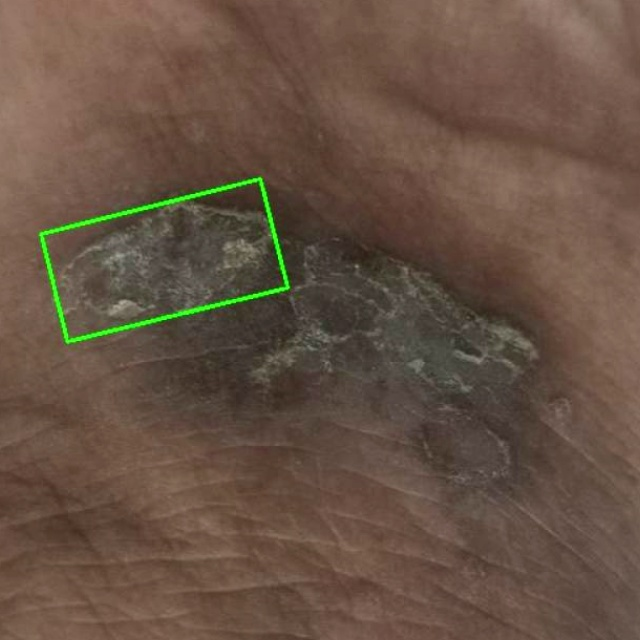Eczema: (40, 179, 287, 341)
